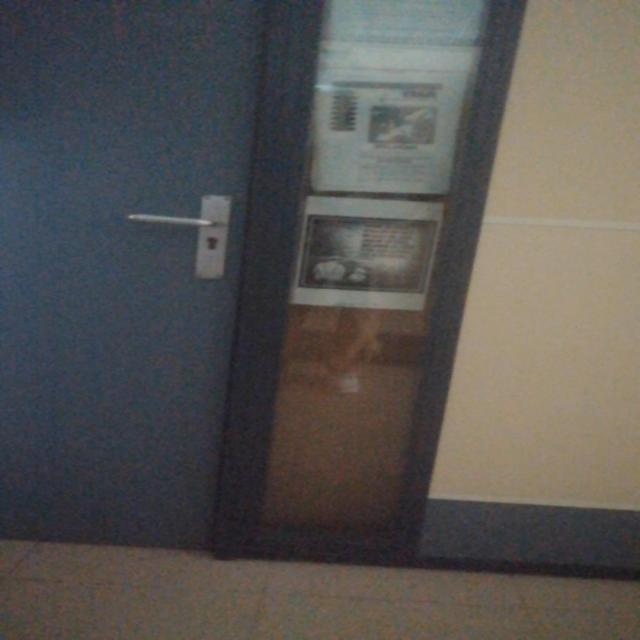door_handle: (124, 212, 227, 230)
